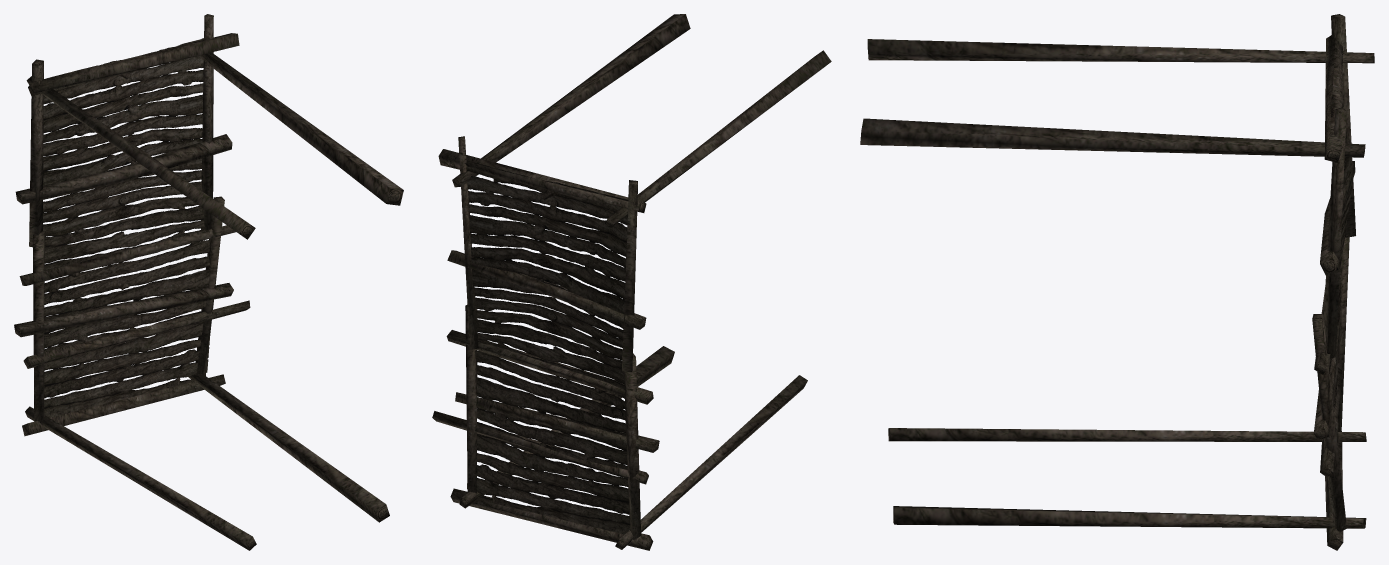
File: MEP_Walk_01.fbx
3 views of the same model, side by side, from view 1: azimuth 30°, elevation 25°; view 2: azimuth 150°, elevation 25°; view 3: azimuth 270°, elevation 25° (orthographic). The views are drawn at different scales.
Visible parts, largest first — view 1: MEP_Walk_01; view 2: MEP_Walk_01; view 3: MEP_Walk_01.
Part boxes in pixels (x1,y1,x2,y2): MEP_Walk_01: (14,14,403,550); MEP_Walk_01: (432,14,831,550); MEP_Walk_01: (860,14,1374,550).
Size of the model in its own units: 3.56 by 5.56 by 5.92.
